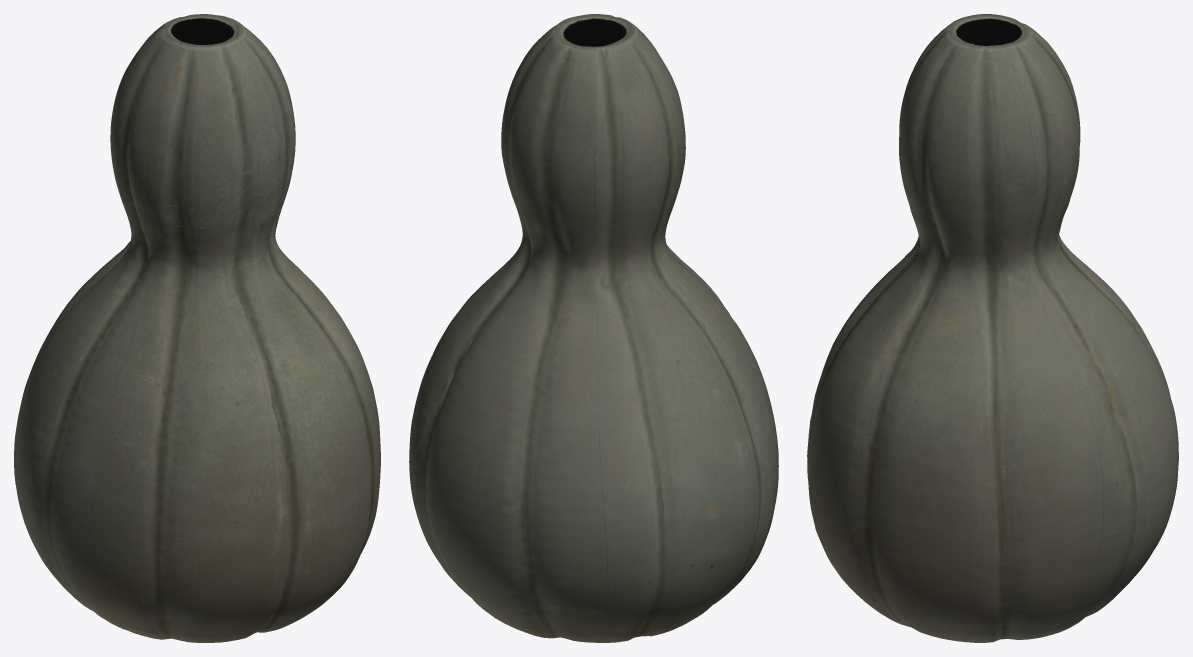
Rendered from celadon-gourd-bottle.glb.
3 renders of one model, left to right at view 1: azimuth 30°, elevation 25°; view 2: azimuth 150°, elevation 25°; view 3: azimuth 270°, elevation 25°, orthographic.
Parts seen in each view (by area): view 1: bon000219_000_30000; view 2: bon000219_000_30000; view 3: bon000219_000_30000.
Part boxes in pixels (x1,y1,x2,y2): bon000219_000_30000: [14, 14, 380, 642]; bon000219_000_30000: [409, 14, 778, 642]; bon000219_000_30000: [807, 14, 1178, 642].
Bounding box in the file's own units: 142 × 246 × 143.
Materials: 1 (1 with a texture image).
